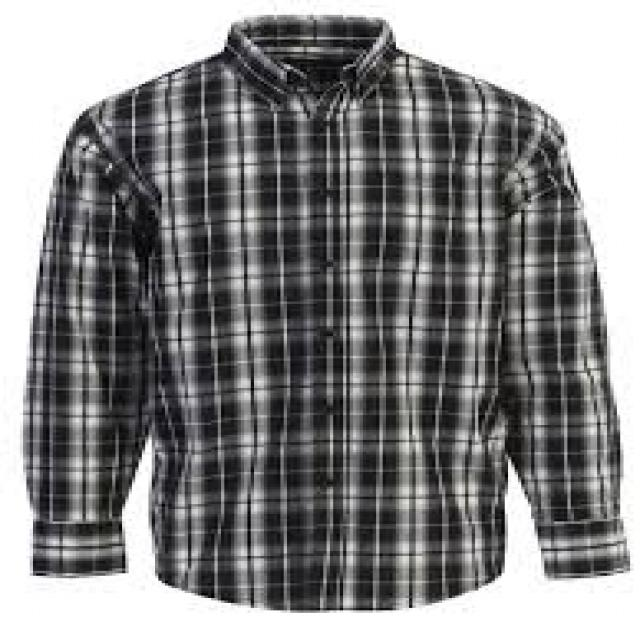plaid: (32, 12, 627, 621)
